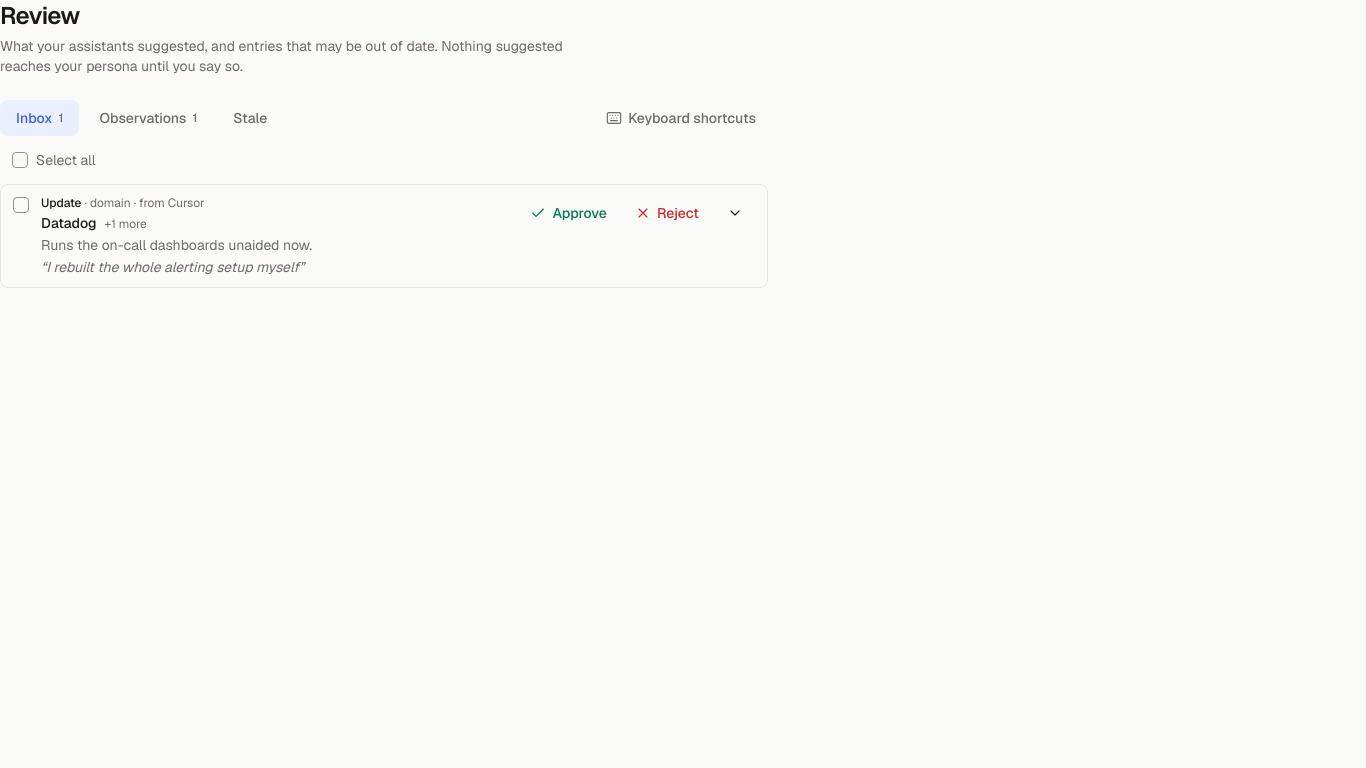
Test: ProposalsPanel › promotion asks where it should go › files where Jev is sure, unless you have chosen first
Click the tab "Observations 1".
click(148, 118)  # box [83,100,213,136]
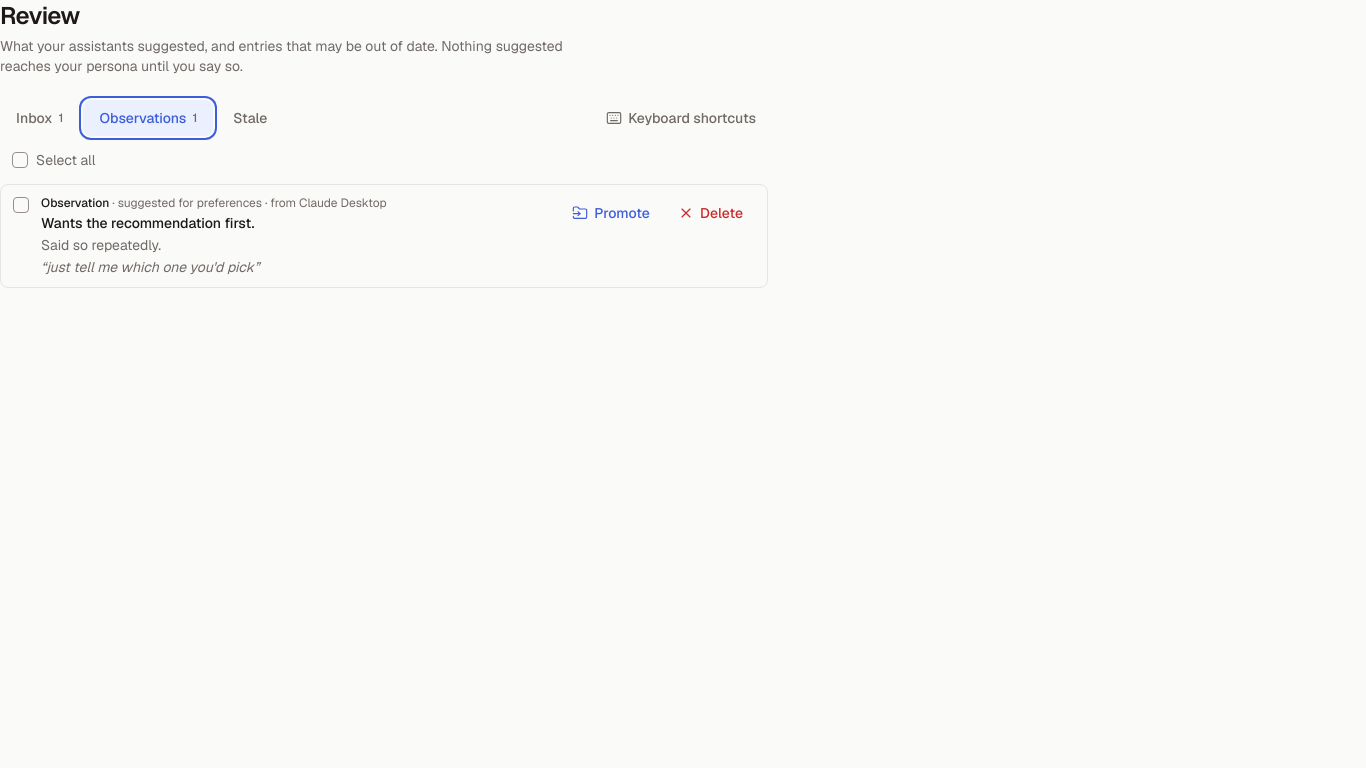
Click the button "promote ".
click(611, 213)  # box [560,195,662,231]
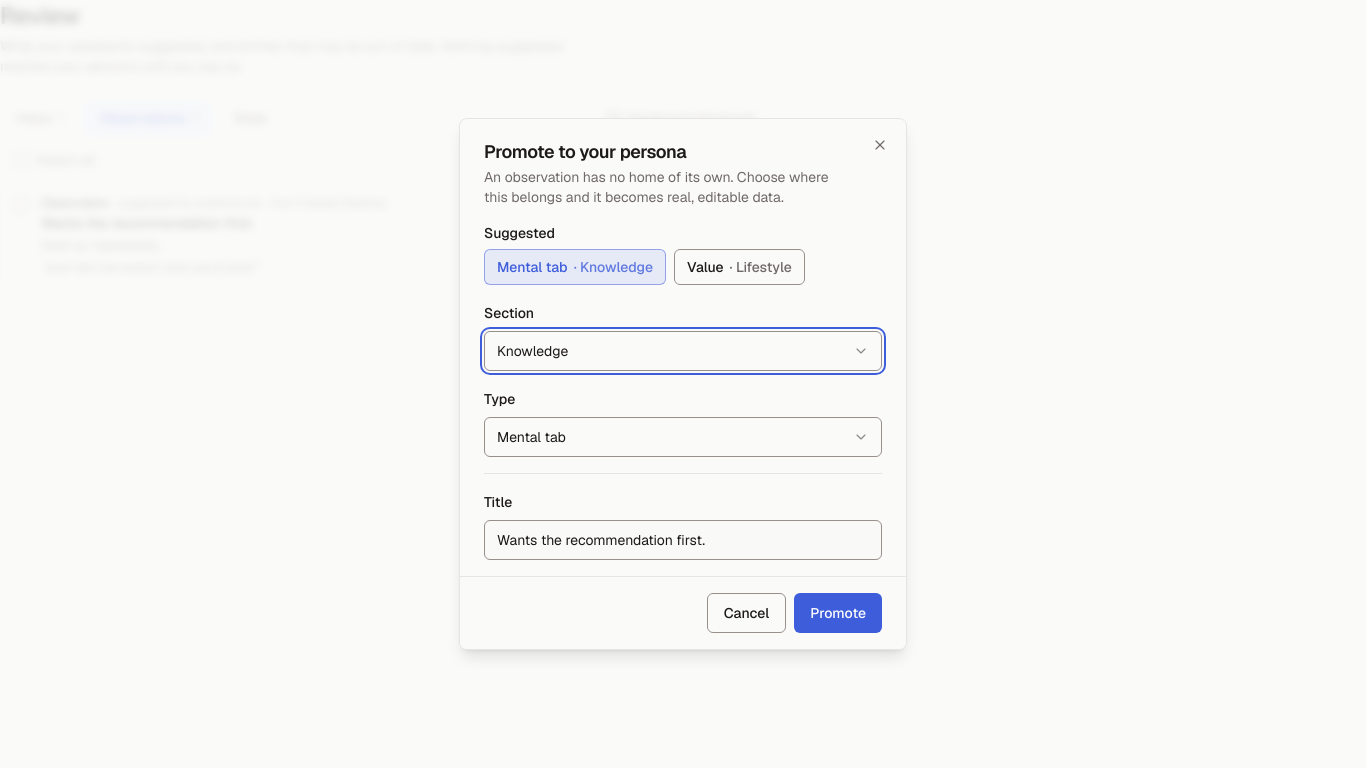
Result: the dropdown named "section" reads "Knowledge" at [484,331,882,371]
Result: the dropdown named "type" reads "Mental tab" at [484,417,882,457]
Result: the element named "Suggested" is shown at [484,249,805,285]
